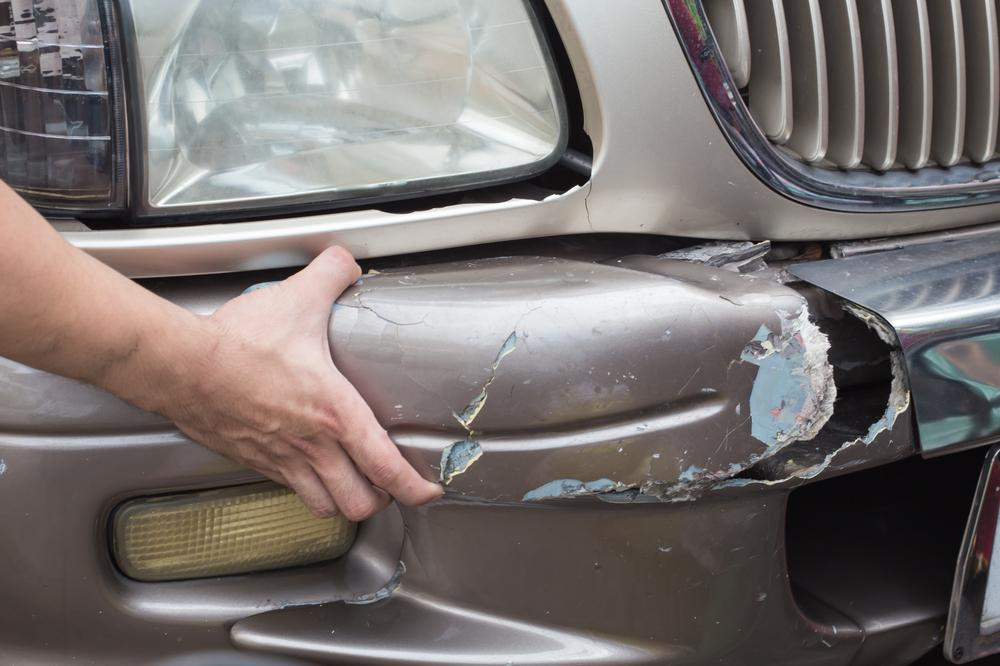crack: (569, 268, 903, 504)
